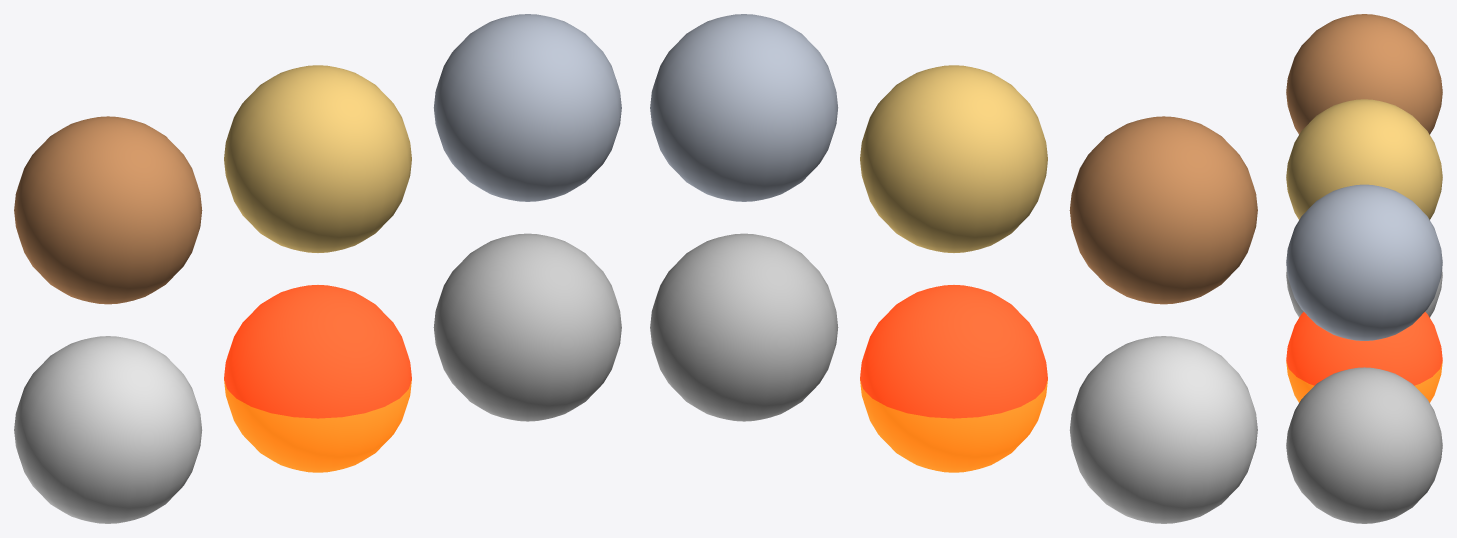
File: material_balls.glb
The picture shows the model from 3 angles, left to right: view 1: azimuth 30°, elevation 25°; view 2: azimuth 150°, elevation 25°; view 3: azimuth 270°, elevation 25°; orthographic projection. The views are drawn at different scales.
Visible parts, largest first — view 1: C normal mapped, D roughness variation, A nonmetal rough, B metal smooth, E emissive, F material AO; view 2: C normal mapped, D roughness variation, A nonmetal rough, B metal smooth, E emissive, F material AO; view 3: F material AO, C normal mapped, A nonmetal rough, B metal smooth, E emissive, D roughness variation.
Part boxes in pixels (x1,y1,x2,y2): C normal mapped: (433, 14, 621, 201); D roughness variation: (14, 336, 202, 523); A nonmetal rough: (14, 116, 202, 304); B metal smooth: (224, 65, 411, 252); E emissive: (224, 285, 411, 472); F material AO: (433, 233, 621, 421); C normal mapped: (650, 14, 838, 201); D roughness variation: (1069, 336, 1257, 523); A nonmetal rough: (1069, 116, 1257, 304); B metal smooth: (860, 65, 1047, 252); E emissive: (860, 285, 1047, 472); F material AO: (650, 233, 838, 421); F material AO: (1286, 367, 1442, 523); C normal mapped: (1286, 184, 1442, 340); A nonmetal rough: (1286, 14, 1442, 134); B metal smooth: (1286, 99, 1442, 219); E emissive: (1286, 312, 1442, 402); D roughness variation: (1286, 269, 1442, 317).
Size of the model in its own units: 4.72 by 3.02 by 1.32.
